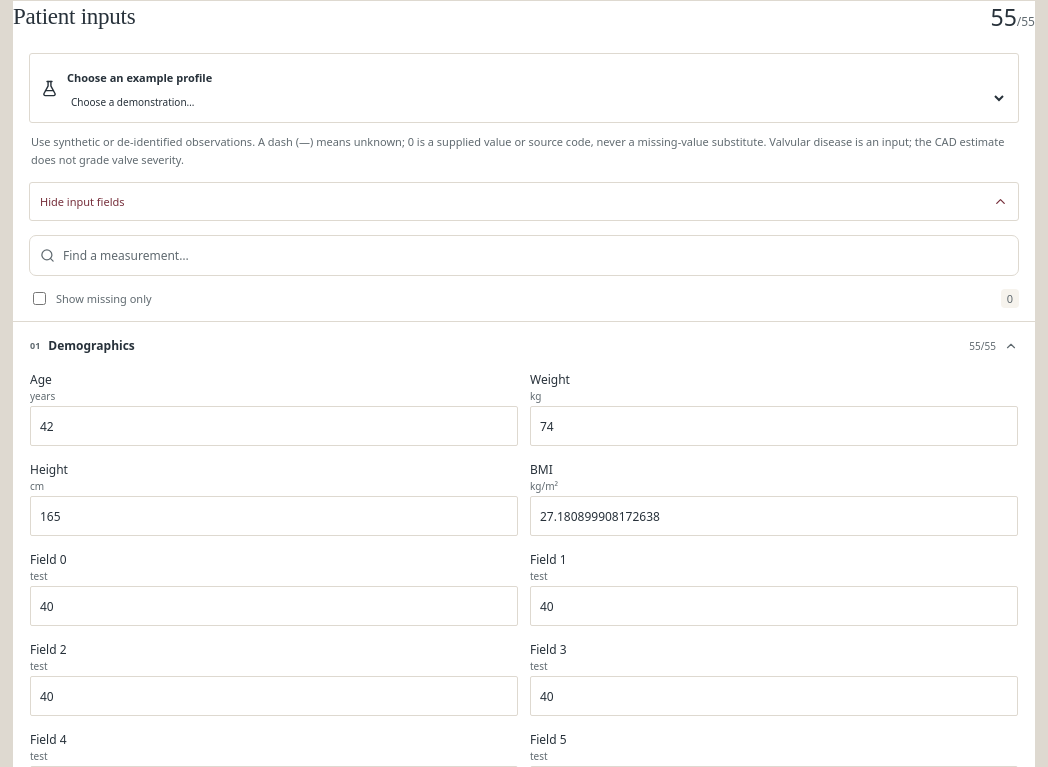
Scenario: accepts one-decimal BMI rounding at the observed minimum
This screenshot has width=1048, height=767.
Replace the text in the number field labelled "Weight" with "62" at point(774, 426), box [530,406,1018,446]
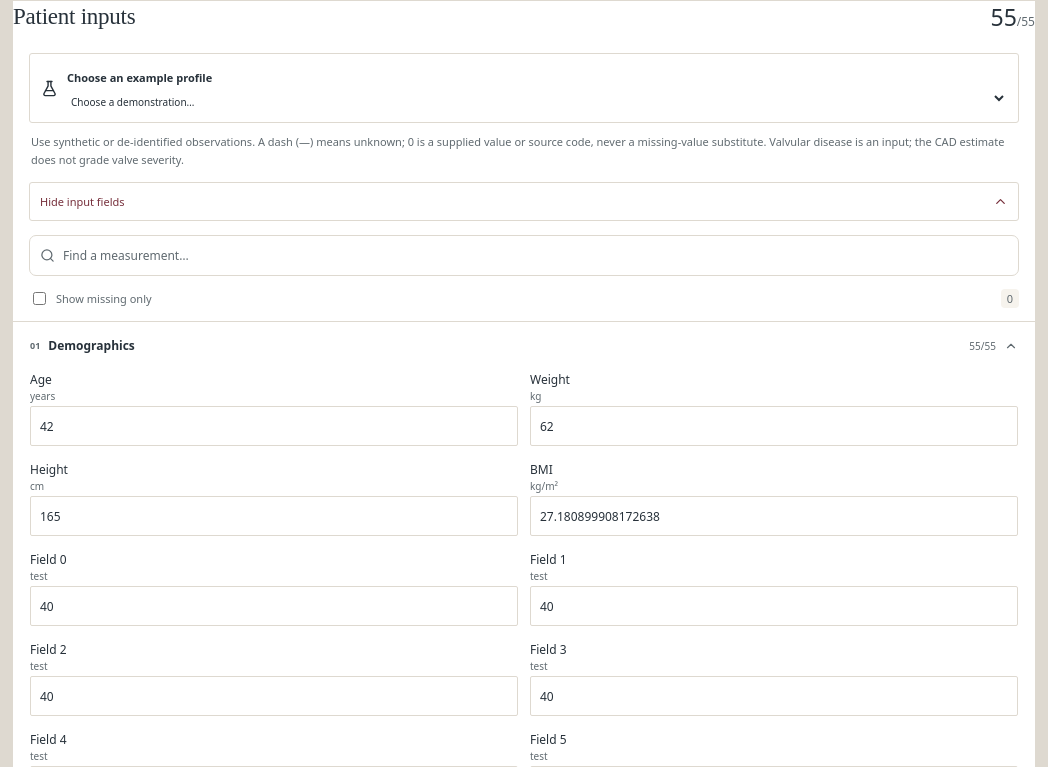
Replace the text in the number field labelled "Height" with "185" at point(274, 516), box [30,496,518,536]
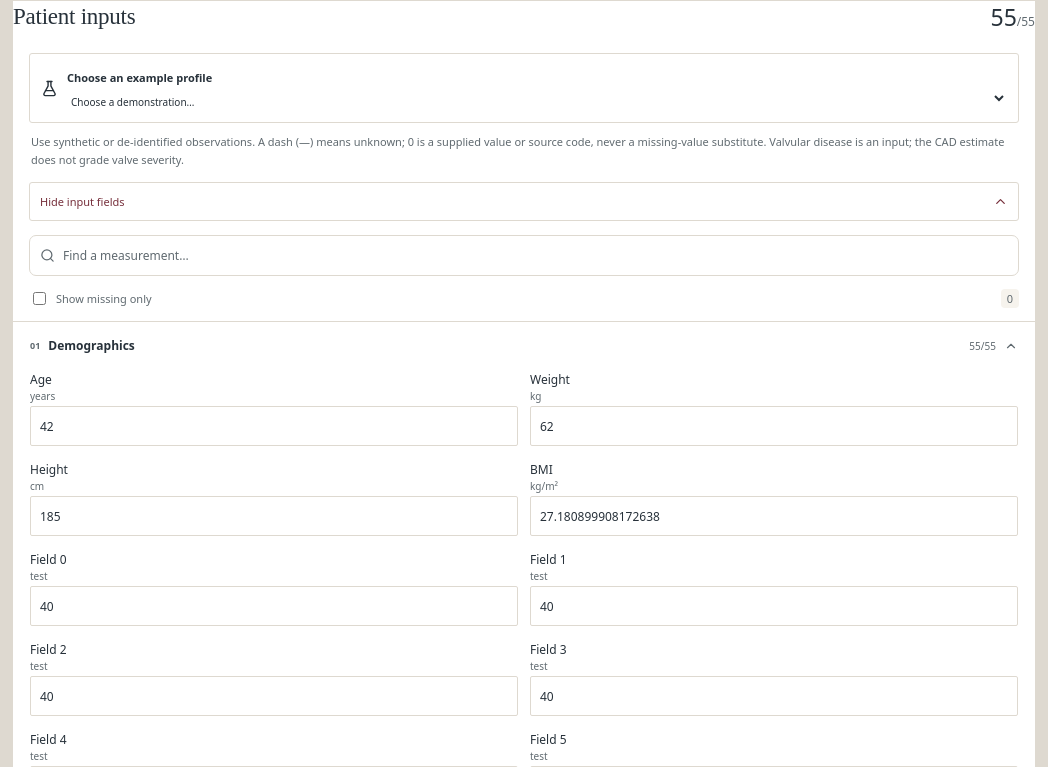
Replace the text in the number field labelled "BMI" with "18.1" at point(774, 516), box [530,496,1018,536]
(page scrolled)
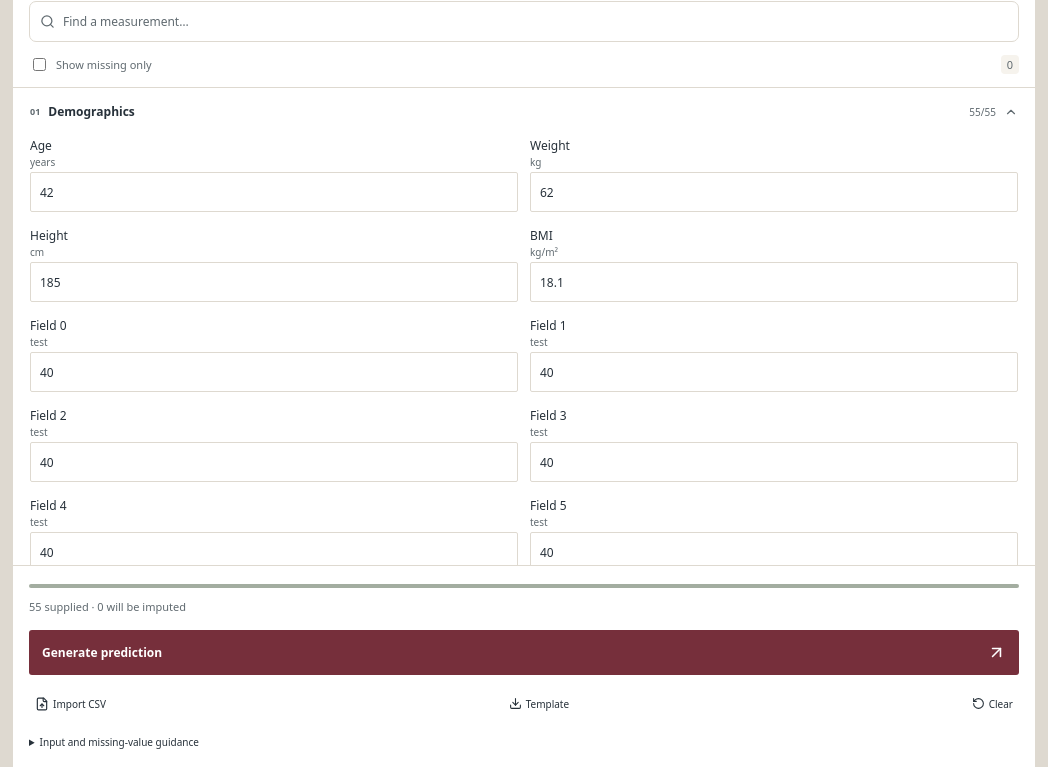
Expected: the button "Generate prediction" is enabled, [29,630,1019,675]
